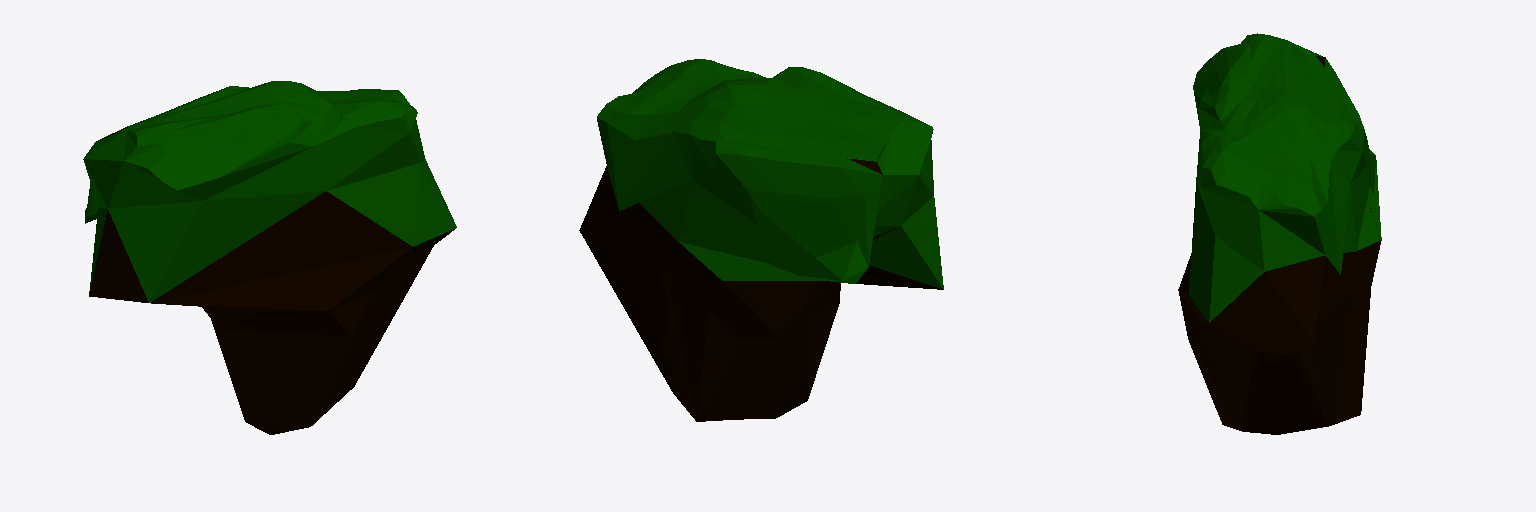
File: potatoe.obj
The picture shows the model from 3 angles: view 1: azimuth 30°, elevation 25°; view 2: azimuth 150°, elevation 25°; view 3: azimuth 270°, elevation 25°; orthographic projection.
Parts seen in each view (by area): view 1: Icosphere; view 2: Icosphere; view 3: Icosphere.
Boxes of the visible parts, box(x1,y1,x2,y2) form: Icosphere: box(83, 81, 456, 434); Icosphere: box(579, 59, 943, 421); Icosphere: box(1178, 33, 1381, 434).
Bounding box in the file's own units: 7.21 × 6.9 × 3.7.